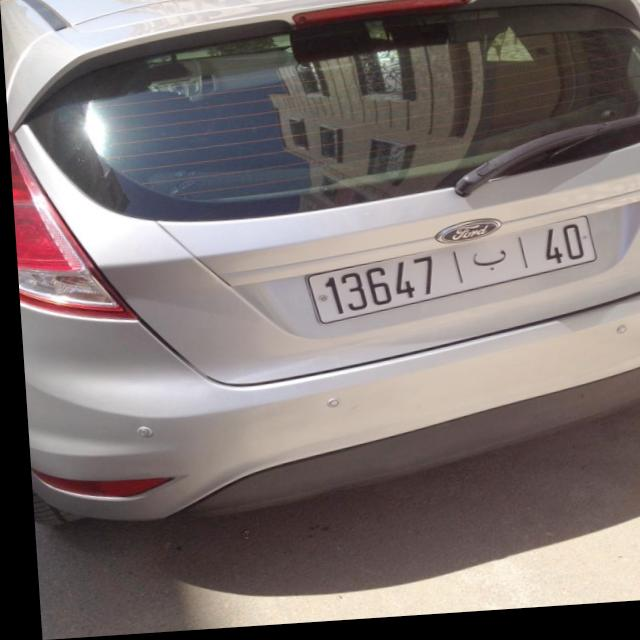License-Plate: (304, 226, 592, 327)
